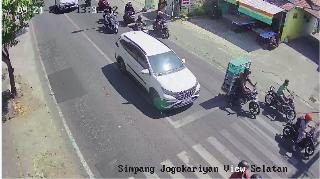mobil: (114, 38, 204, 112)
motor: (227, 60, 261, 117), (284, 109, 312, 158), (272, 77, 294, 119), (154, 10, 172, 40), (103, 11, 121, 38), (131, 15, 151, 37), (124, 3, 136, 27)
